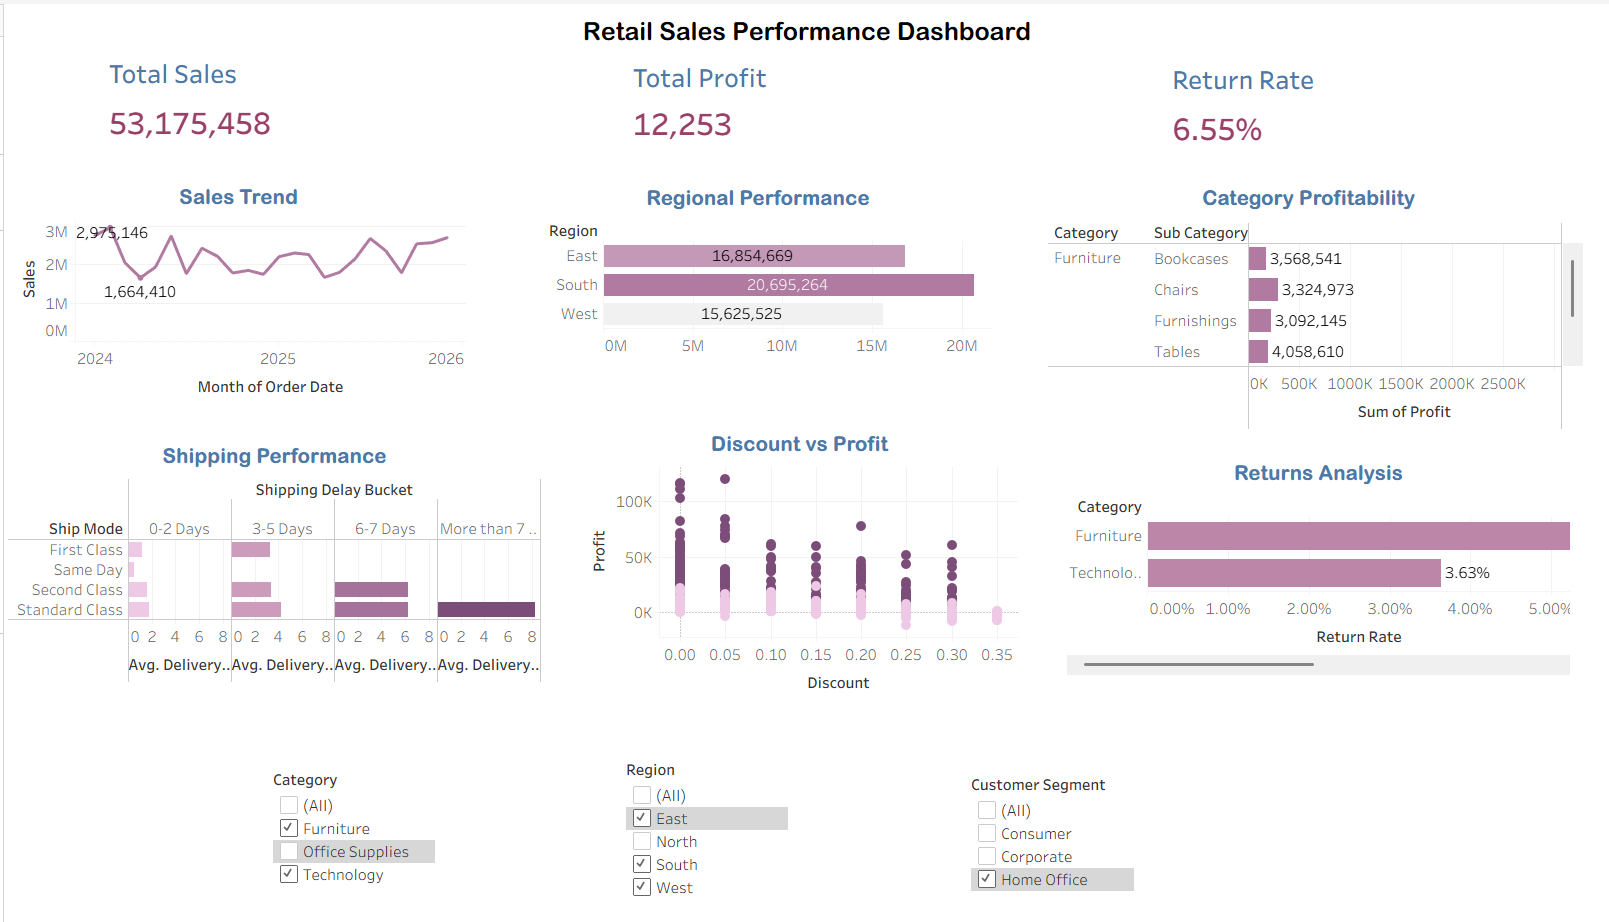

The dashboard page shown, as its layout file describes it:
{"tool":"tableau","page":{"name":"Executive Dashboard","canvas":[1000,1000],"units":"permille","ordinal":0},"visuals":[{"type":"title","box":[4.8,8.7,990.3,40.2]},{"type":"worksheet","title":"Total Sales","mark":"Automatic","box":[63.2,52.1,128.2,96.6]},{"type":"worksheet","title":"Total Profit","mark":"Automatic","box":[389.1,56.5,110.5,91.2]},{"type":"worksheet","title":"Return Rate","mark":"Automatic","box":[724.6,58.6,95.4,96.6]},{"type":"worksheet","title":"Category profitability view","mark":"Automatic","rows":["category","sub_category"],"cols":["profit"],"box":[650.1,182.4,333.1,280.1]},{"type":"worksheet","title":"Sales trend view","mark":"Line","rows":["sales"],"cols":["order_date"],"box":[4.4,192.2,283.3,242.1]},{"type":"worksheet","title":"Regional performance view","mark":"Automatic","rows":["region"],"cols":["sales"],"box":[323.2,193.3,292.7,216.1]},{"type":"worksheet","title":"Discount vs profit view","mark":"Circle","rows":["profit"],"cols":["discount"],"box":[359.3,460.4,272.1,295.3]},{"type":"worksheet","title":"Shipping performance view","mark":"Automatic","rows":["ship_mode"],"cols":["Calculation_1001672583729157","delivery_days"],"box":[2.5,473.4,333.1,333.3]},{"type":"worksheet","title":"Return analysis view","mark":"Automatic","rows":["category"],"cols":["vtavg"],"box":[661.9,491.9,313.2,266]},{"type":"filter","title":"Regional performance view","param":"[federated.1gli4zn1jhiqjy1e2p4e51q9hy4m].[none:region:nk]","box":[387.3,819.8,100.9,155.3]},{"type":"filter","title":"Category profitability view","param":"[federated.1gli4zn1jhiqjy1e2p4e51q9hy4m].[none:category:nk]","box":[167.5,830.6,100.9,130.3]},{"type":"filter","title":"Return analysis view","param":"[federated.1gli4zn1jhiqjy1e2p4e51q9hy4m].[none:customer_segment:nk]","box":[602.1,836.1,101.5,130.3]}]}

Visuals, with their boxes on the dashboard's canvas, which has no fixed pixel size, in thousandths of its width and height (x1, y1, x2, y2). These are canvas units, not pixel positions in the 1609x922 screenshot, which may show the page scaled, cropped or inside an application window:
title: bbox=[5, 9, 995, 49]
"Total Sales" worksheet: bbox=[63, 52, 191, 149]
"Total Profit" worksheet: bbox=[389, 56, 500, 148]
"Return Rate" worksheet: bbox=[725, 59, 820, 155]
"Category profitability view" worksheet: bbox=[650, 182, 983, 462]
"Sales trend view" worksheet (Line marks): bbox=[4, 192, 288, 434]
"Regional performance view" worksheet: bbox=[323, 193, 616, 409]
"Discount vs profit view" worksheet (Circle marks): bbox=[359, 460, 631, 756]
"Shipping performance view" worksheet: bbox=[2, 473, 336, 807]
"Return analysis view" worksheet: bbox=[662, 492, 975, 758]
"Regional performance view" filter: bbox=[387, 820, 488, 975]
"Category profitability view" filter: bbox=[168, 831, 268, 961]
"Return analysis view" filter: bbox=[602, 836, 704, 966]
